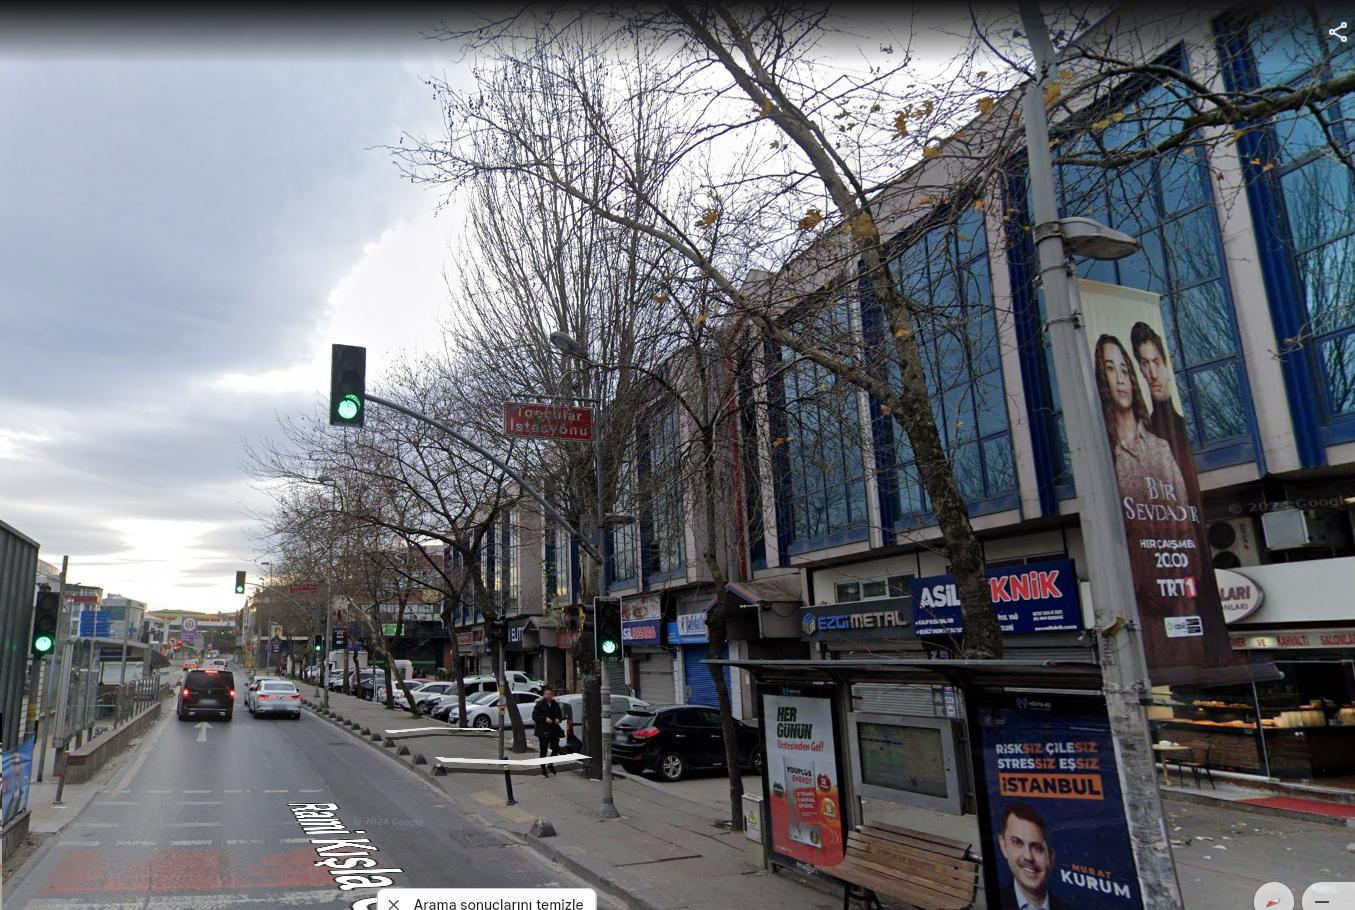greenlight: (334, 346, 365, 422), (31, 593, 57, 656), (595, 597, 623, 655), (236, 571, 245, 595), (315, 635, 321, 650)
